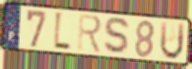7: (25, 8, 48, 49)
8: (135, 19, 156, 59)
L: (52, 10, 72, 53)
R: (77, 13, 104, 56)
S: (103, 16, 133, 56)
U: (159, 20, 186, 62)
